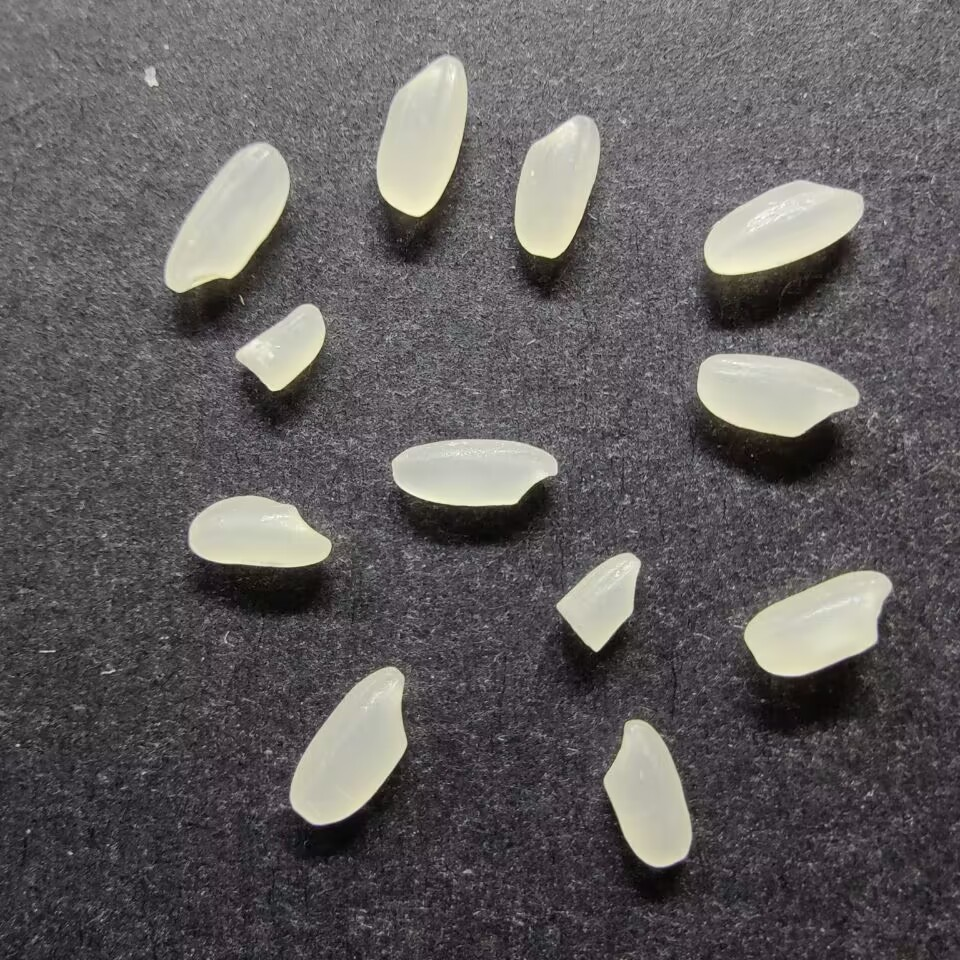broken: (552, 550, 645, 654), (234, 301, 328, 397)
rice: (161, 142, 293, 296), (287, 665, 409, 828), (741, 568, 894, 679), (701, 176, 865, 277), (373, 53, 468, 218), (693, 352, 861, 438), (600, 717, 694, 869), (511, 112, 602, 259), (389, 436, 559, 507), (186, 493, 335, 570)
